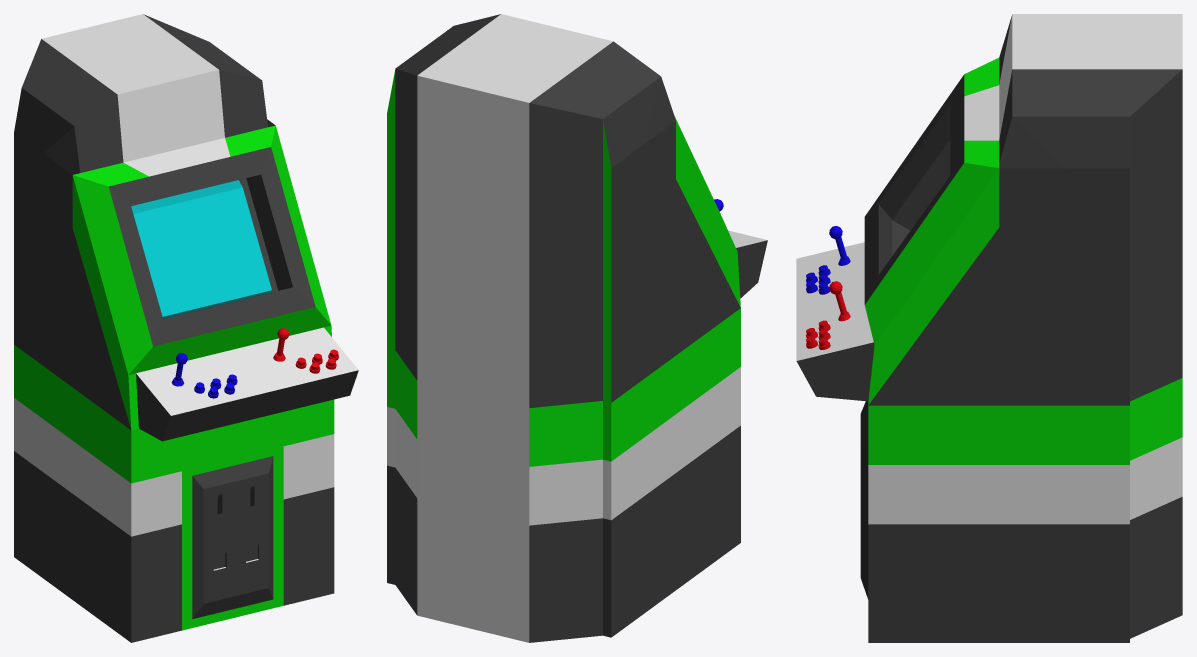
File: Arcade Machine.fbx
3 views of the same model, side by side, from view 1: azimuth 30°, elevation 25°; view 2: azimuth 150°, elevation 25°; view 3: azimuth 270°, elevation 25° (orthographic). The views are drawn at different scales.
Parts seen in each view (by area): view 1: Arcade Machine, Blue Buttons, Red Buttons; view 2: Arcade Machine; view 3: Arcade Machine.
Boxes of the visible parts, x1=… form: Arcade Machine: x1=14, y1=14, x2=358, y2=642; Blue Buttons: x1=194, y1=374, x2=237, y2=398; Red Buttons: x1=295, y1=349, x2=338, y2=373; Arcade Machine: x1=387, y1=14, x2=767, y2=642; Arcade Machine: x1=796, y1=14, x2=1182, y2=642.
Bounding box in the file's own units: 1000 × 2300 × 1474.
